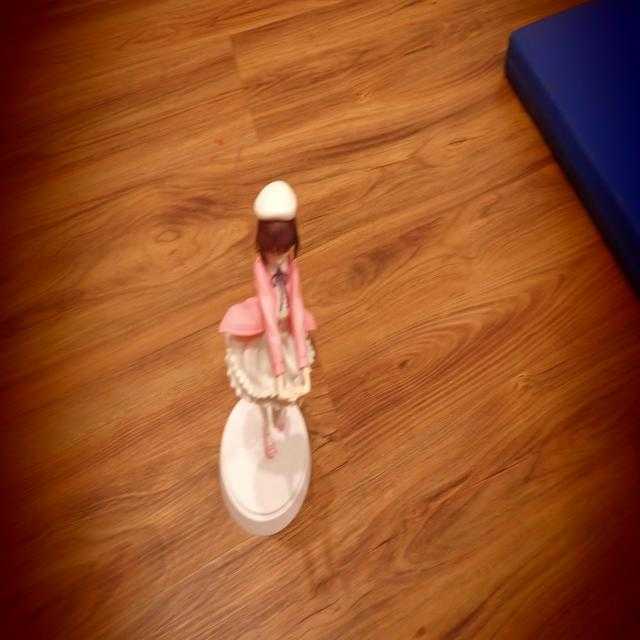My-pink-anime-figure: (220, 181, 316, 457)
